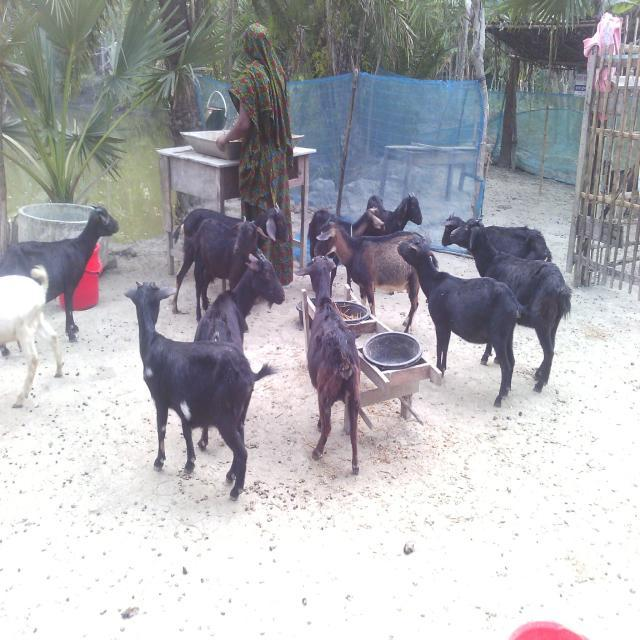Goat: (123, 279, 278, 500), (398, 236, 524, 408), (468, 222, 572, 393), (0, 204, 119, 343), (294, 254, 361, 475), (172, 207, 289, 322), (314, 219, 430, 333), (441, 212, 552, 263)
